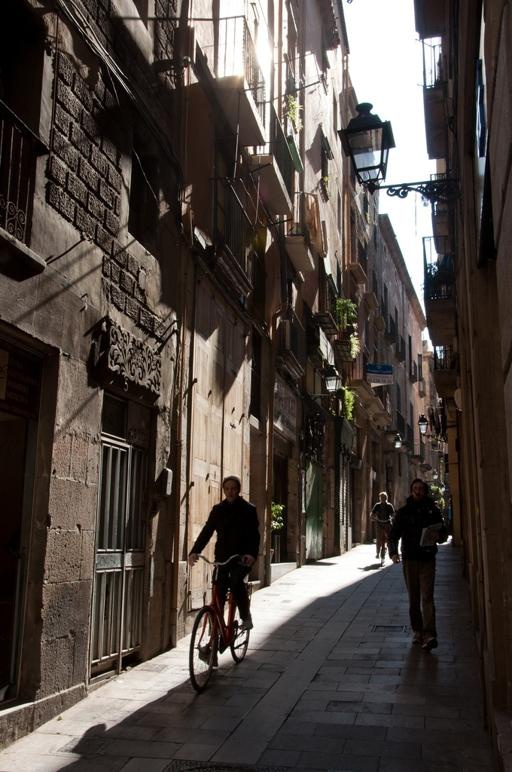non-vehicle: (189, 552, 254, 694), (372, 515, 392, 566)
